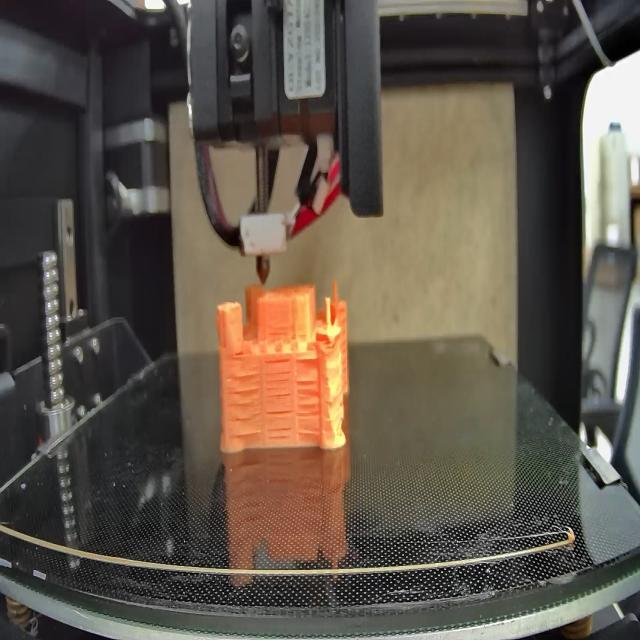cracks: (226, 374, 262, 436), (296, 379, 322, 439), (264, 354, 291, 398), (265, 405, 291, 439), (270, 321, 288, 337), (294, 357, 318, 367)
